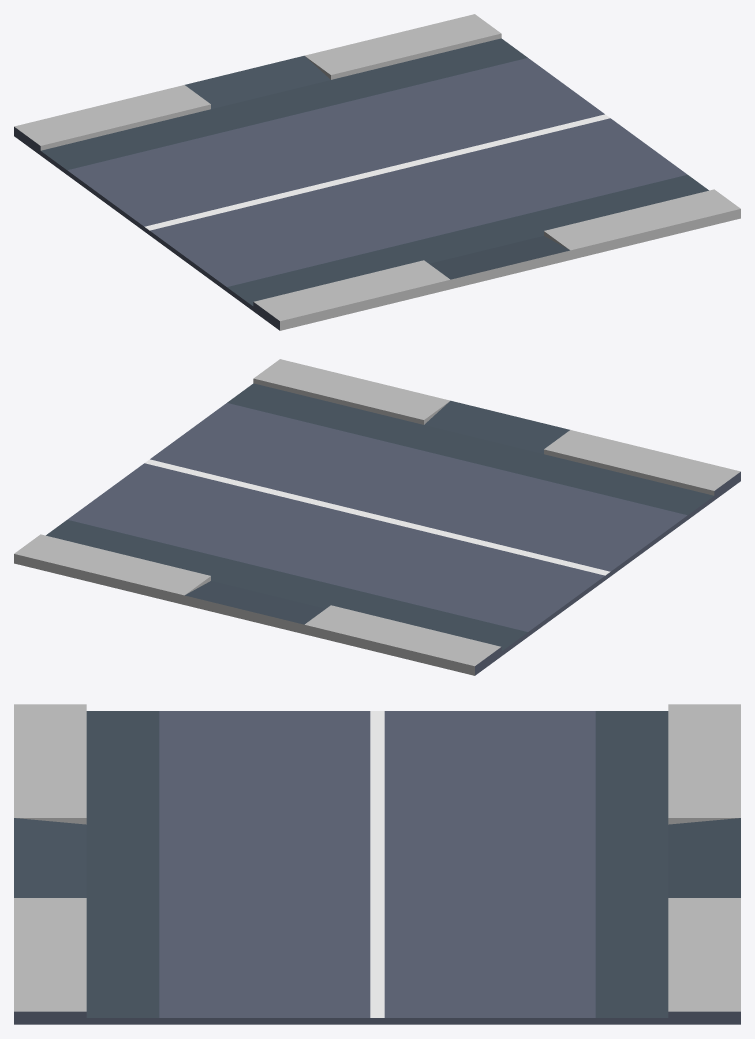
File: SM_Road_Driveway_Double.fbx
3 views of the same model, one above another, from view 1: azimuth 30°, elevation 25°; view 2: azimuth 150°, elevation 25°; view 3: azimuth 270°, elevation 25° (orthographic). The views are drawn at different scales.
Visible parts, largest first — view 1: SM_Road_Driveway_Double; view 2: SM_Road_Driveway_Double; view 3: SM_Road_Driveway_Double.
Boxes of the visible parts, <box> form: SM_Road_Driveway_Double: <box>14,14,740,330</box>; SM_Road_Driveway_Double: <box>14,359,740,675</box>; SM_Road_Driveway_Double: <box>14,704,740,1024</box>.
Bounding box in the file's own units: 1000 × 20 × 1000.
